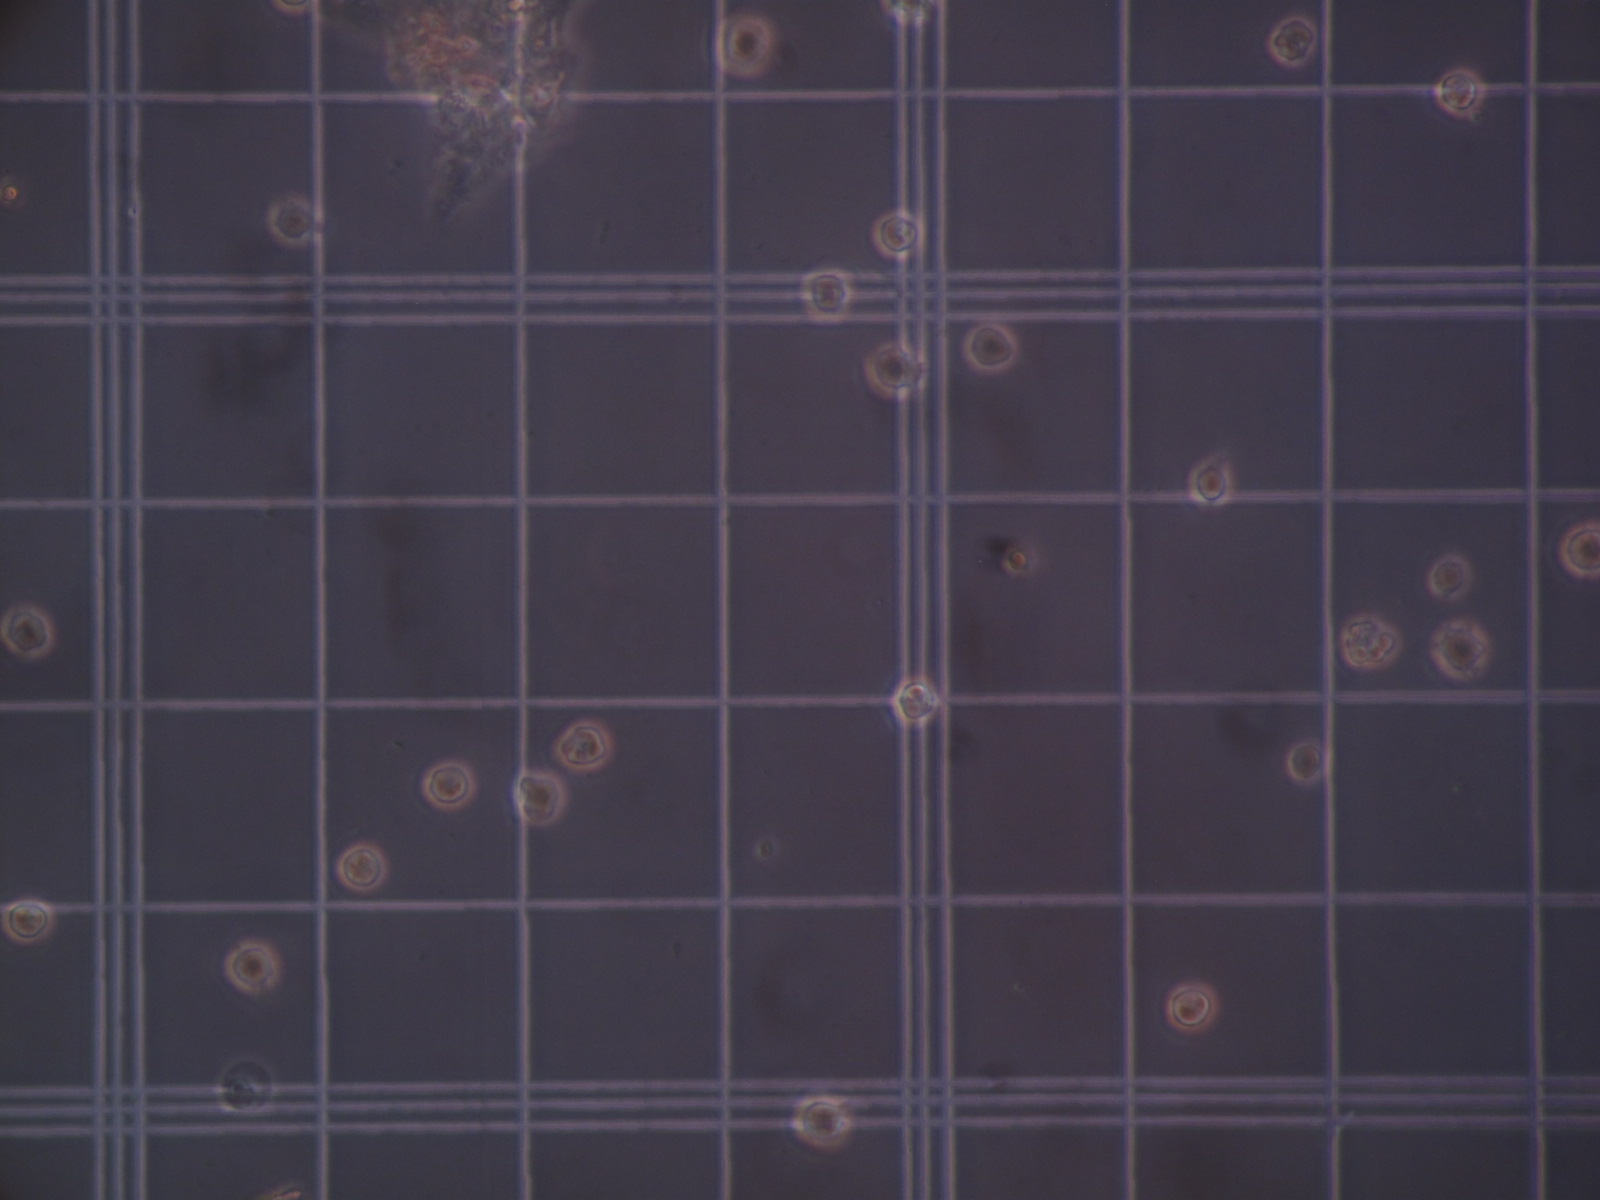hemo: (866, 338, 927, 402), (791, 1094, 852, 1153), (712, 14, 770, 76), (1431, 618, 1489, 679), (214, 1056, 277, 1113), (1340, 615, 1402, 667), (963, 321, 1020, 376), (553, 718, 612, 771), (1, 604, 55, 659), (797, 267, 852, 321), (224, 942, 278, 995), (1432, 67, 1487, 118), (513, 771, 564, 826), (421, 761, 476, 812), (1167, 983, 1220, 1035), (873, 207, 925, 258), (1267, 16, 1317, 68), (265, 197, 316, 246), (1558, 524, 1600, 581), (336, 845, 386, 892), (1187, 458, 1233, 507), (889, 678, 940, 724), (1427, 553, 1473, 601), (3, 901, 53, 944), (1286, 741, 1327, 783)
